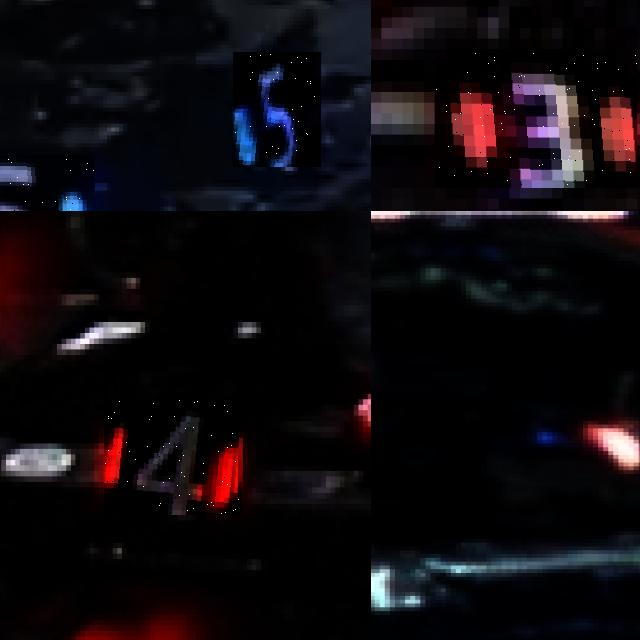B5: (233, 52, 321, 167), (0, 155, 94, 211)
R3: (435, 49, 637, 188)
R4: (104, 399, 242, 515)
